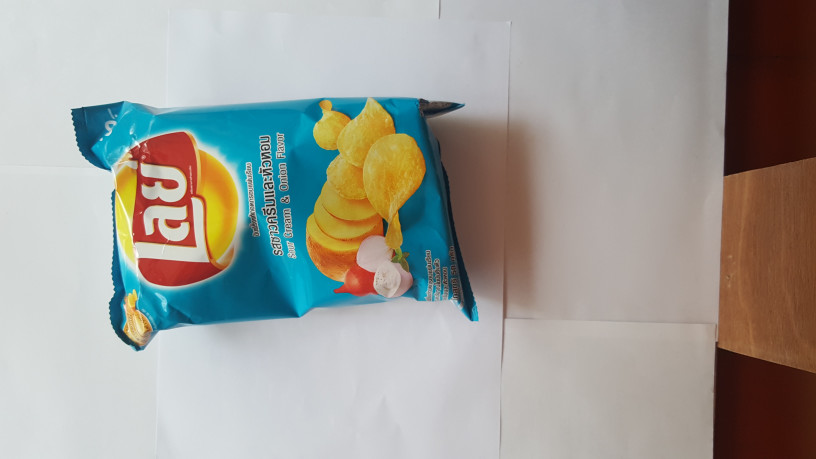lays-onion: (64, 70, 490, 357)
